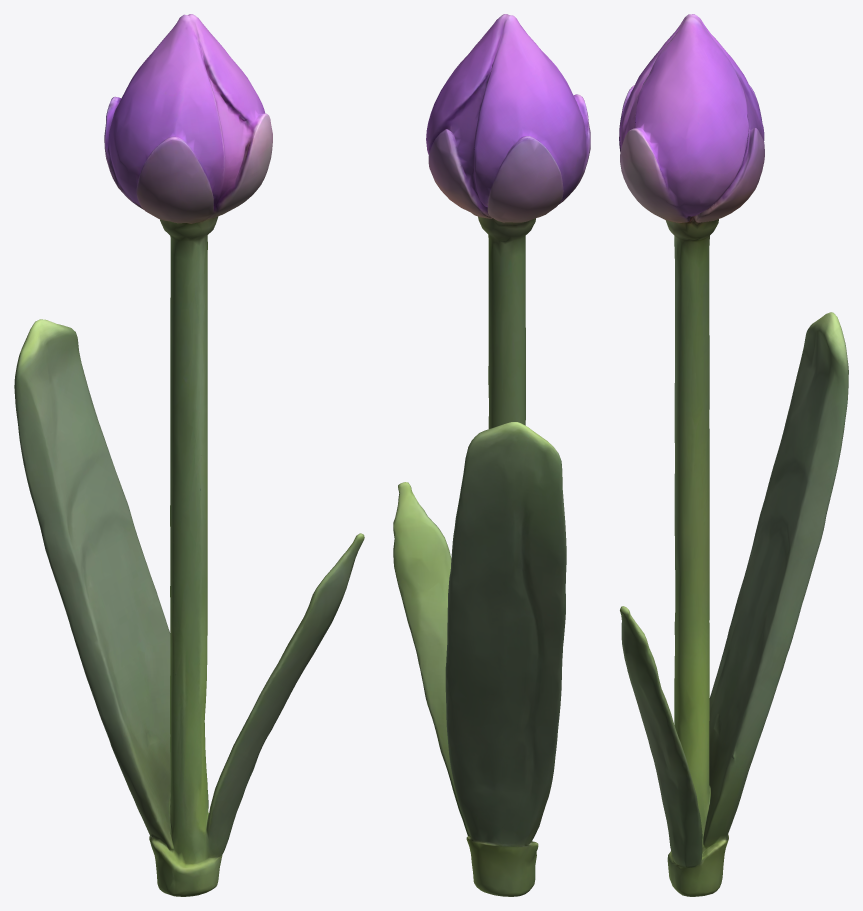
Rendered from allium-bud.glb.
3 renders of one model, left to right at view 1: azimuth 30°, elevation 25°; view 2: azimuth 150°, elevation 25°; view 3: azimuth 270°, elevation 25°, orthographic.
Parts seen in each view (by area): view 1: tripo_node_01a22162-b3fe-793e-8ea3-8030150f2135; view 2: tripo_node_01a22162-b3fe-793e-8ea3-8030150f2135; view 3: tripo_node_01a22162-b3fe-793e-8ea3-8030150f2135.
Part boxes in pixels (x1,y1,x2,y2): tripo_node_01a22162-b3fe-793e-8ea3-8030150f2135: [14, 14, 364, 896]; tripo_node_01a22162-b3fe-793e-8ea3-8030150f2135: [393, 14, 590, 896]; tripo_node_01a22162-b3fe-793e-8ea3-8030150f2135: [619, 14, 848, 896].
Size of the model in its own units: 0.3066 by 1 by 0.2391.
Materials: 1 (1 with a texture image).
